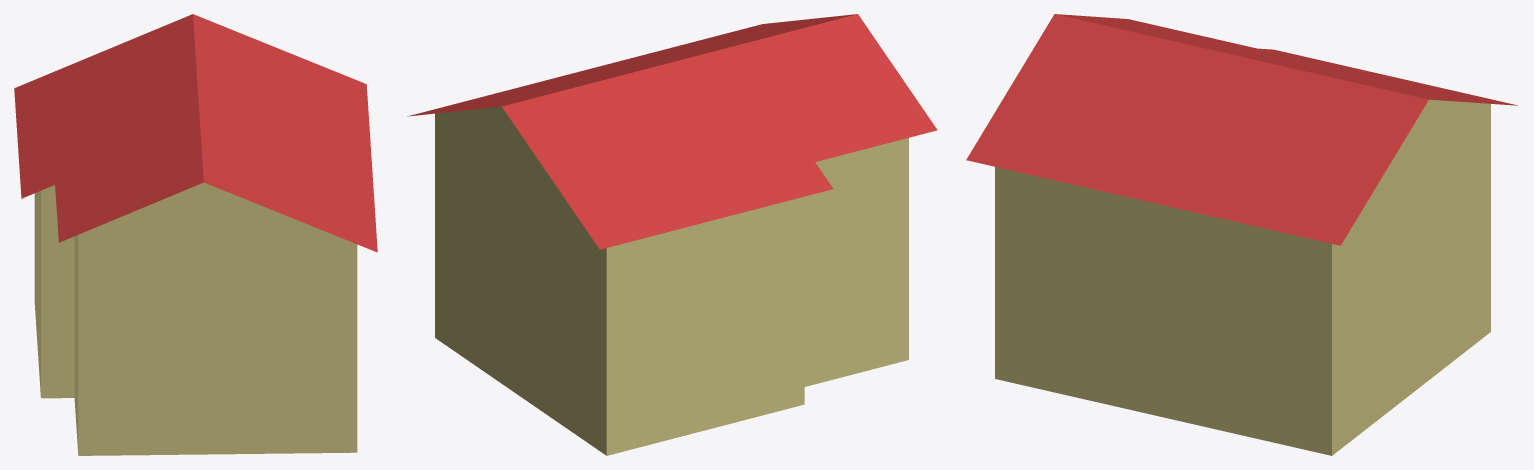
3 views of the same model, side by side, from view 1: azimuth 30°, elevation 25°; view 2: azimuth 150°, elevation 25°; view 3: azimuth 270°, elevation 25° (orthographic). The views are drawn at different scales.
Size of the model in its own units: 17.62 by 19.43 by 11.59.
